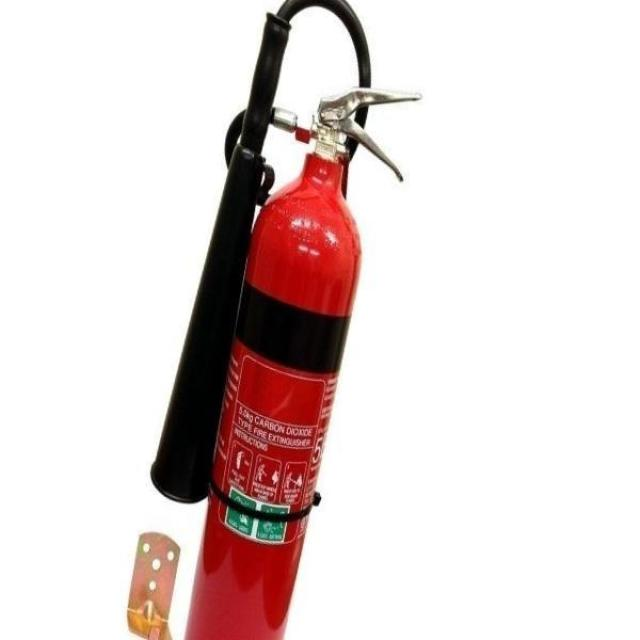fire_extinguisher: (139, 0, 426, 639)
